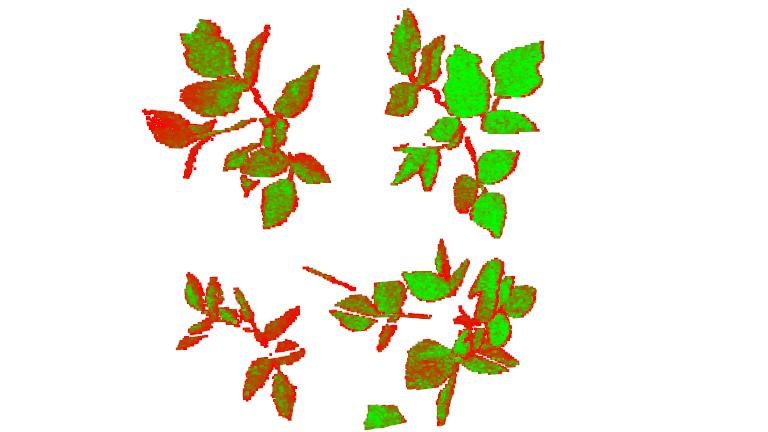mungbean: (328, 238, 540, 426), (141, 19, 331, 228), (384, 4, 547, 236), (176, 261, 308, 419)
